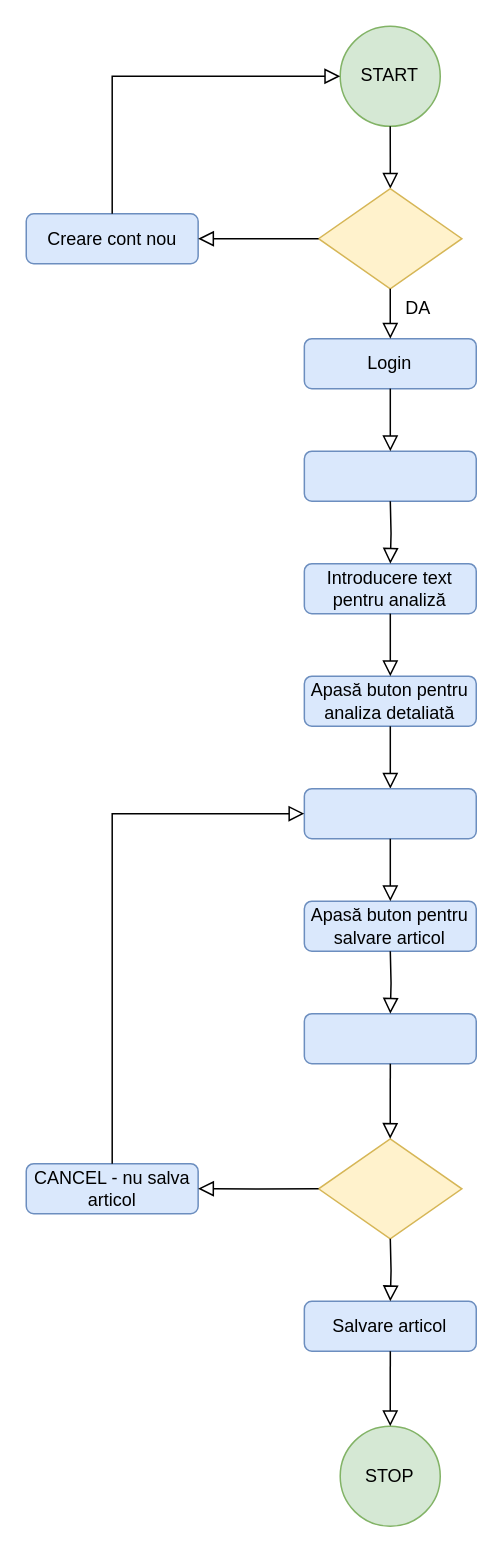
Image size: 503x1553. Some labels were removed from this diagram. Here are the shapes that lost their labels. From the top down, the centre of each, then its label:
the point at 389,238: Utilizator existent?
the point at 389,475: Afișare pagină Dashboard
the point at 389,813: Vezi pagină cu analiza detaliată
the point at 389,1038: Deschide modal pentru confirmare
the point at 389,1188: Salvezi articol?
